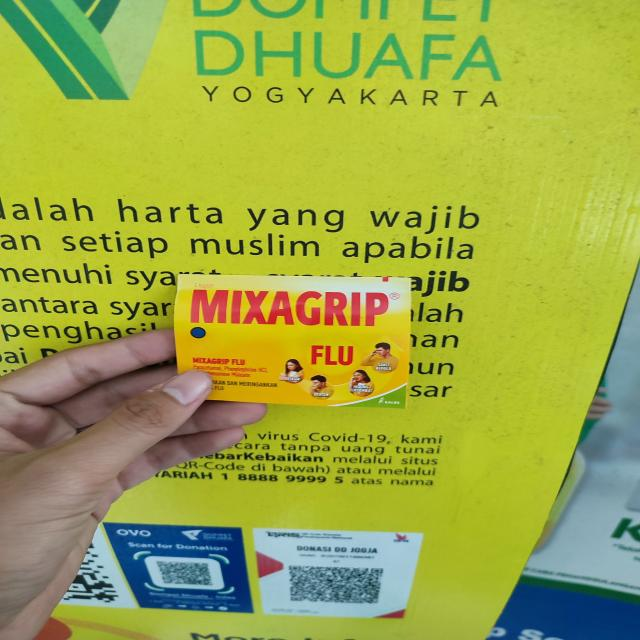B3: (176, 274, 410, 411)
